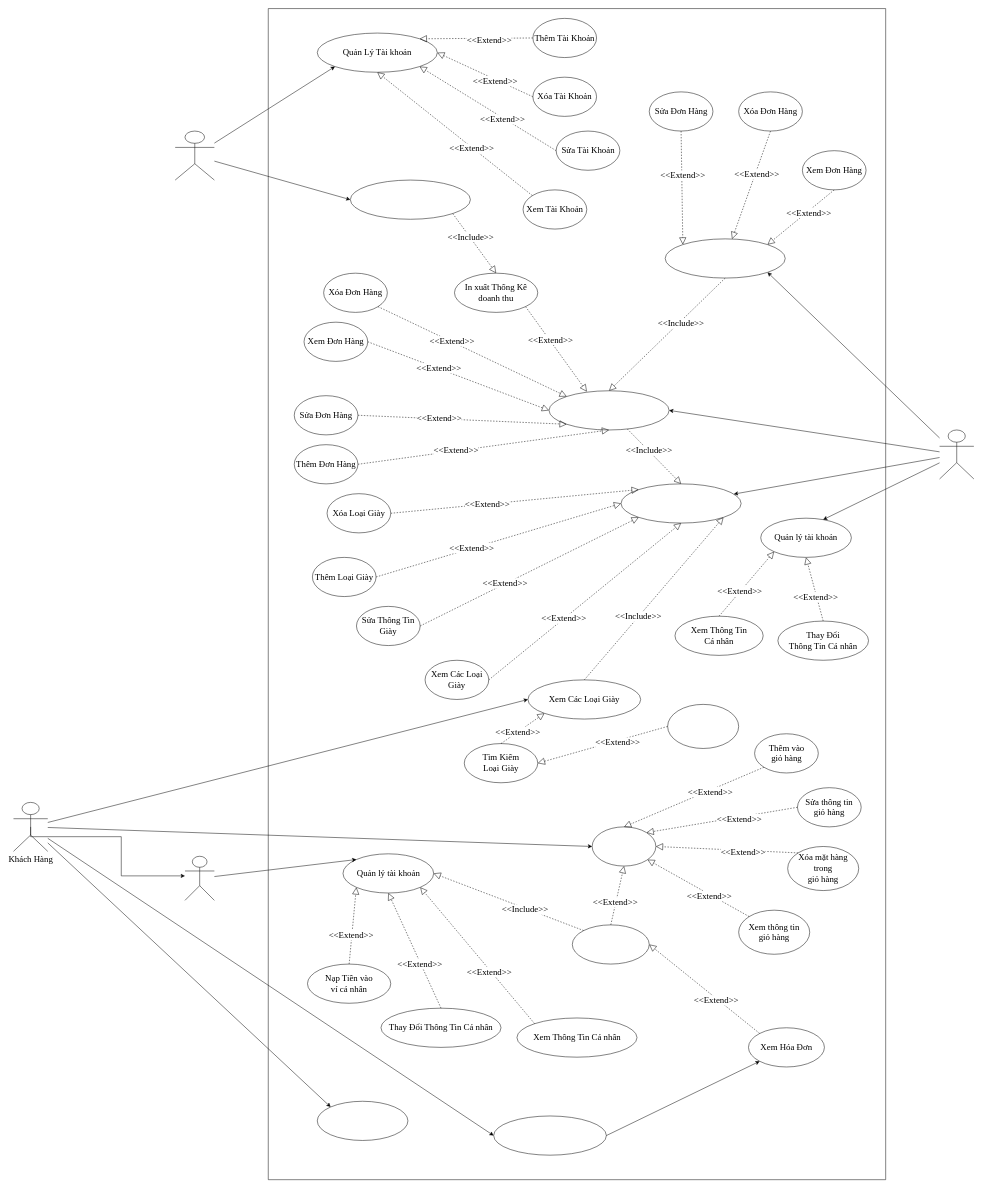
Image size: 982x1188. Some labels were removed from this diagram. The shapes that lost their labels are listed below. From the top down, each one's centre as x and y in pixels, then its label:
[194,155]: Ban Quản Trị
[410,199]: Xem thống kê, báo cáo doanh thu
[725,258]: Quản Lý Chi Tiết Đơn Hàng Đang Giao Dịch
[609,410]: Quản Lý Đơn Hàng
[956,454]: Quản lý
[681,503]: Quản Lý Kho Hàng
[703,726]: Hiển thị thông tin loại giày
[624,846]: Giỏ Hàng
[199,878]: Tài Khoản Khách Hàng
[610,944]: Thanh Toán
[362,1120]: Tạo Tài Khoản
[549,1135]: Xem Lịch Sử Giao Dịch
